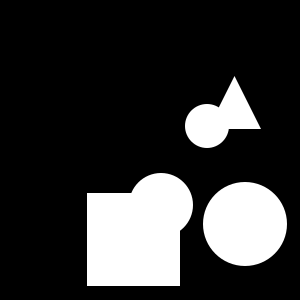circle: (87, 193, 180, 286)
rectangle: (203, 182, 287, 266), (129, 173, 193, 237), (185, 104, 229, 148)
triangle: (208, 76, 261, 129)
